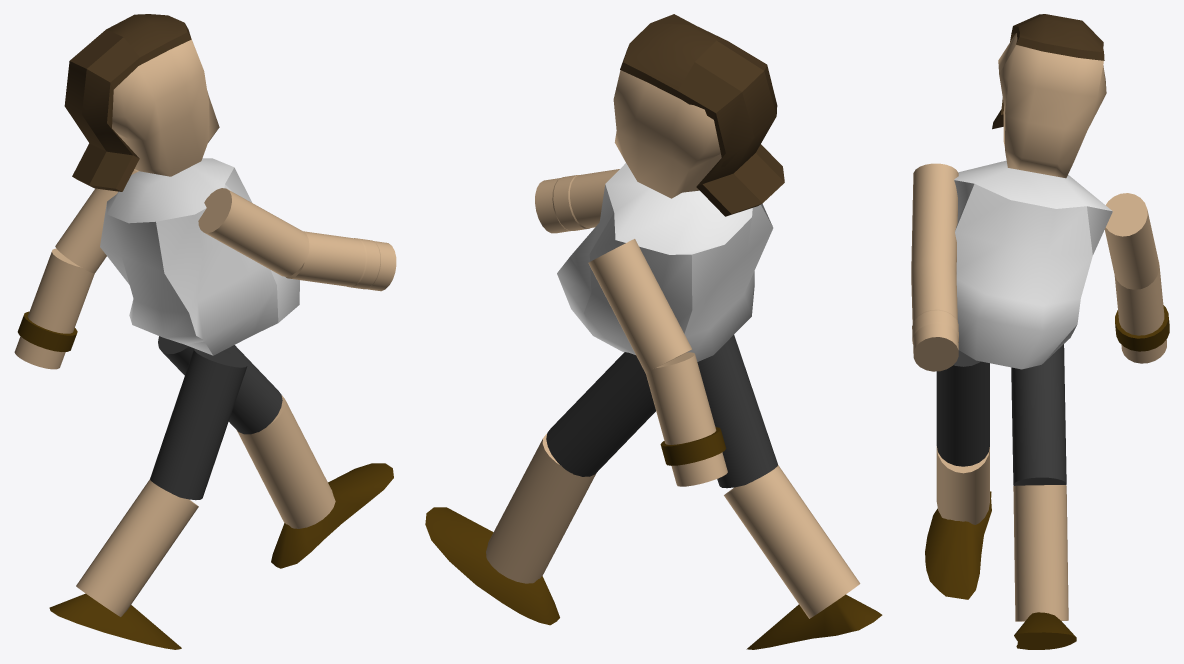
Rendered from Dronk_Walk_Chr.fbx.
3 views of the same model, side by side, from view 1: azimuth 30°, elevation 25°; view 2: azimuth 150°, elevation 25°; view 3: azimuth 270°, elevation 25° (orthographic). The views are drawn at different scales.
Visible parts, largest first — view 1: polySurface5, polySurface16, polySurface15, pCylinder1, pCylinder3, pCylinder4, pCylinder5, pCone2, polySurface8, pCylinder2, pCone1, polySurface11 (+5 smaller); view 2: polySurface5, polySurface16, pCylinder3, polySurface15, pCylinder4, pCylinder2, pCylinder8, pCylinder1, pCone2, polySurface8, pCone1, polySurface11 (+4 smaller); view 3: polySurface5, polySurface15, pCylinder4, pCylinder2, pCylinder1, pCylinder5, pCone1, pCylinder8, polySurface16, pCylinder3, polySurface11, polySurface8 (+5 smaller).
Boxes of the visible parts, x1,y1,x2,y2 form: polySurface5: (100,158,299,355); polySurface16: (64,14,191,191); polySurface15: (112,39,219,176); pCylinder1: (150,348,247,500); pCylinder3: (76,479,198,616); pCylinder4: (236,395,335,528); pCylinder5: (198,188,309,276); pCone2: (271,463,393,568); polySurface8: (27,248,94,333); pCylinder2: (158,336,282,434); pCone1: (49,593,181,649); polySurface11: (285,231,365,286); polySurface5: (557,163,773,361); polySurface16: (620,14,784,216); pCylinder3: (724,465,860,618); polySurface15: (613,70,721,198); pCylinder4: (486,434,596,583); pCylinder2: (546,352,655,476); pCylinder8: (588,239,692,373); pCylinder1: (697,335,777,488); pCone2: (425,507,559,625); polySurface8: (646,352,716,444); pCone1: (746,594,882,649); polySurface11: (570,169,619,227); polySurface5: (954,160,1112,369); polySurface15: (998,33,1106,178); pCylinder4: (1013,485,1068,621); pCylinder2: (1011,344,1066,485); pCylinder1: (936,350,989,466); pCylinder5: (911,163,958,273); pCone1: (925,491,991,599); pCylinder8: (1104,193,1159,289); polySurface16: (992,14,1104,129); pCylinder3: (936,446,989,524); polySurface11: (911,260,957,323); polySurface8: (1114,262,1164,335).
Size of the model in its own units: 3.04 by 4.61 by 1.84.
